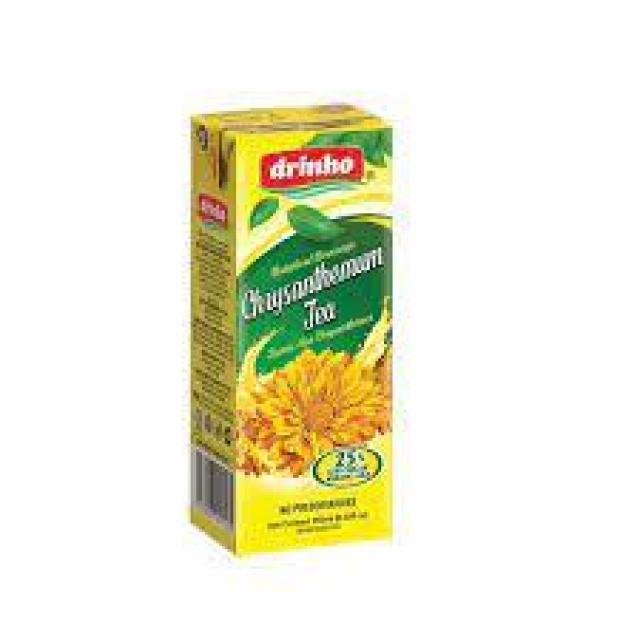drink carton: (185, 102, 396, 558)
